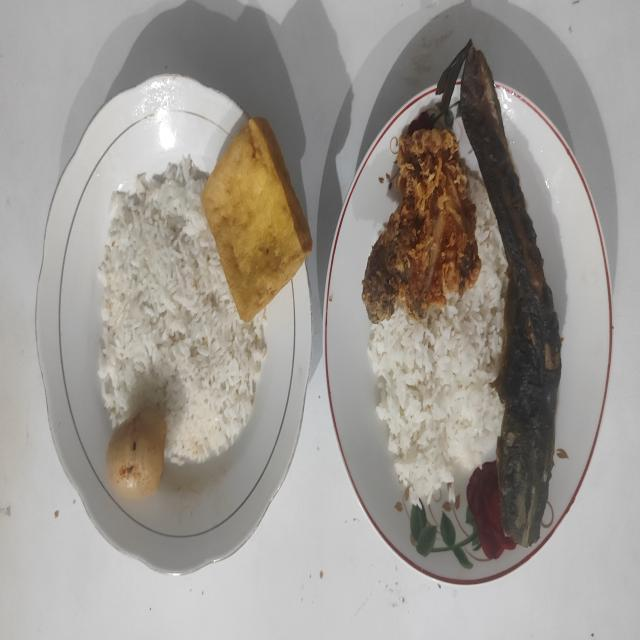nasi_putih: (98, 156, 266, 464), (368, 174, 508, 504)
tahu_goreng: (201, 117, 312, 321)
